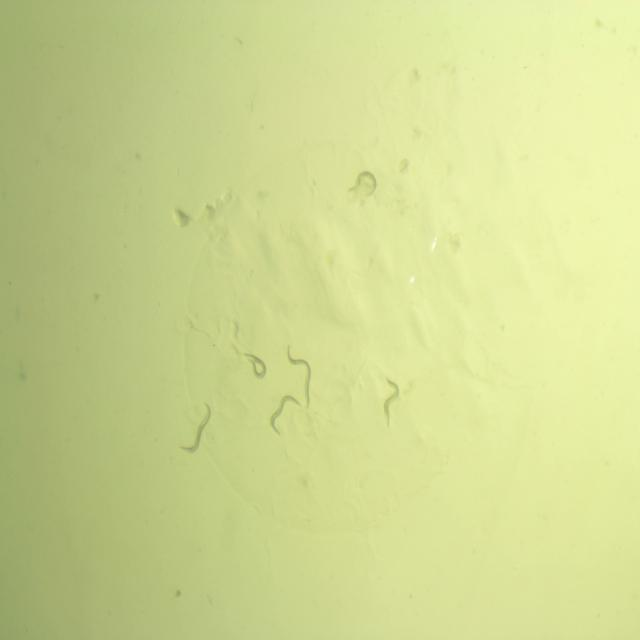worm: (173, 397, 214, 459), (284, 340, 317, 410), (264, 391, 303, 440), (379, 371, 403, 432), (342, 164, 380, 201), (242, 347, 269, 382)
